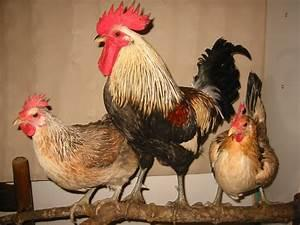hen: (92, 0, 252, 211), (11, 92, 148, 224), (207, 71, 279, 208)
